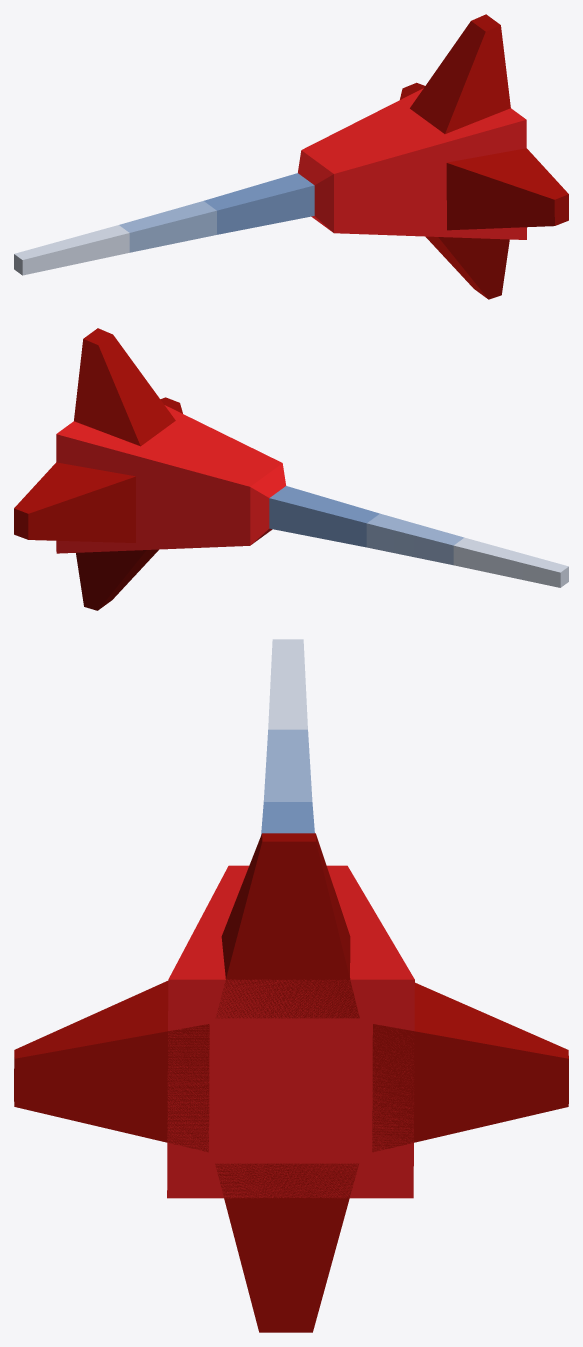
File: laseremitter.obj
3 views of the same model, one above another, from view 1: azimuth 30°, elevation 25°; view 2: azimuth 150°, elevation 25°; view 3: azimuth 270°, elevation 25° (orthographic). The views are drawn at different scales.
Visible parts, largest first — view 1: laser_emitter; view 2: laser_emitter; view 3: laser_emitter.
Boxes of the visible parts, bbox=[...] form: laser_emitter: bbox=[14, 14, 568, 299]; laser_emitter: bbox=[14, 328, 568, 610]; laser_emitter: bbox=[14, 639, 568, 1332].
Size of the model in its own units: 5.99 by 3.25 by 3.32.
